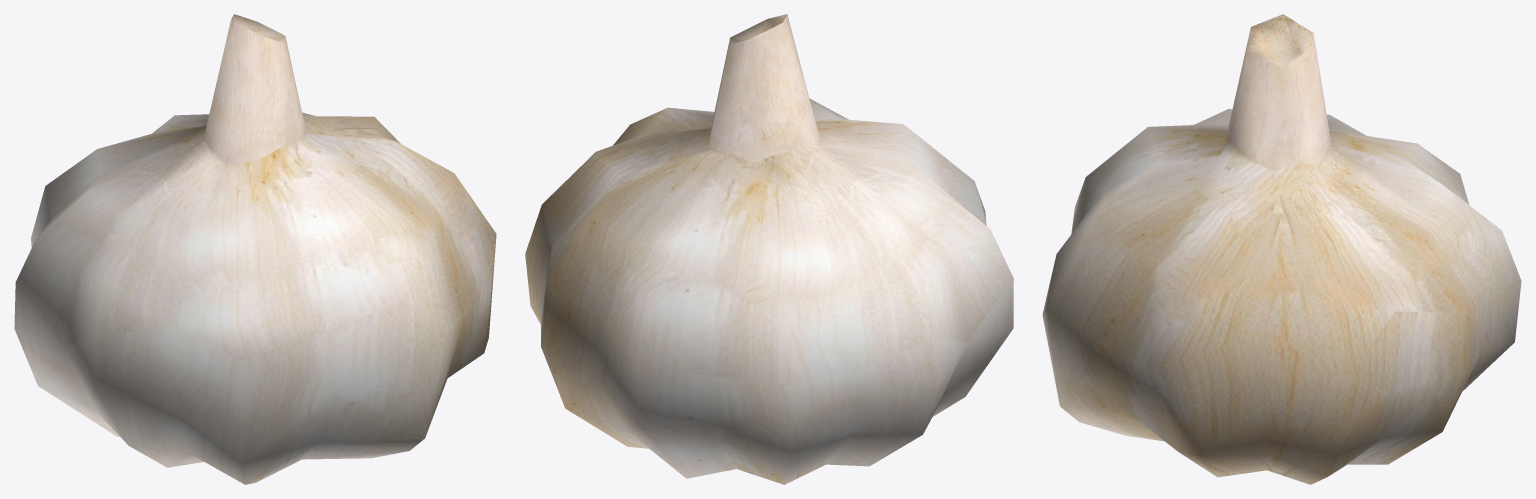
The model's file is garlic.fbx.
The picture shows the model from 3 angles, left to right: view 1: azimuth 30°, elevation 25°; view 2: azimuth 150°, elevation 25°; view 3: azimuth 270°, elevation 25°; orthographic projection. The views are drawn at different scales.
Visible parts, largest first — view 1: 10180_Garlic-L1; view 2: 10180_Garlic-L1; view 3: 10180_Garlic-L1.
Boxes of the visible parts, x1,y1,x2,y2 form: 10180_Garlic-L1: (14, 14, 496, 484); 10180_Garlic-L1: (525, 14, 1013, 484); 10180_Garlic-L1: (1042, 14, 1521, 484).
Size of the model in its own units: 536 by 518 by 551.
